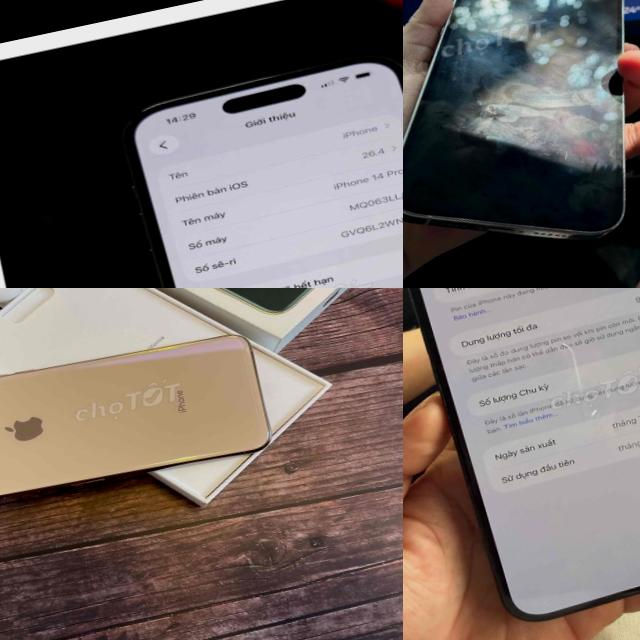gen_12_13: (403, 0, 640, 279)
gen_14: (96, 28, 403, 288)
gen_15: (403, 288, 640, 640)
gen_x_xs: (0, 306, 296, 536)
